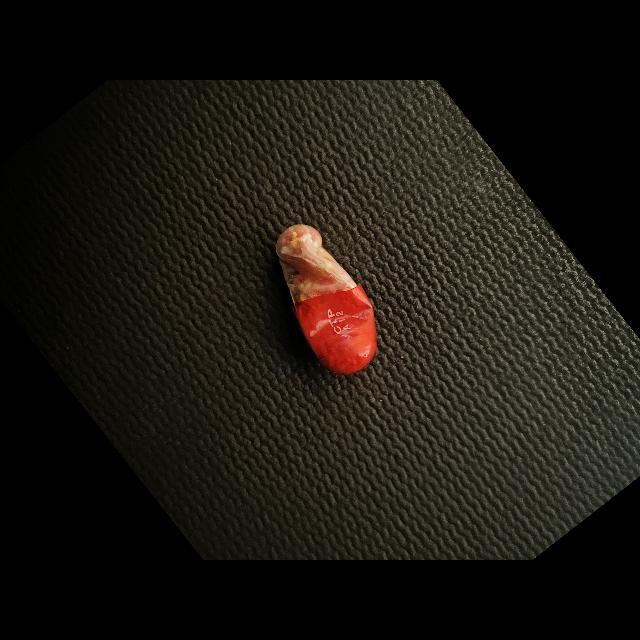Defective Capsule: (276, 225, 377, 374)
